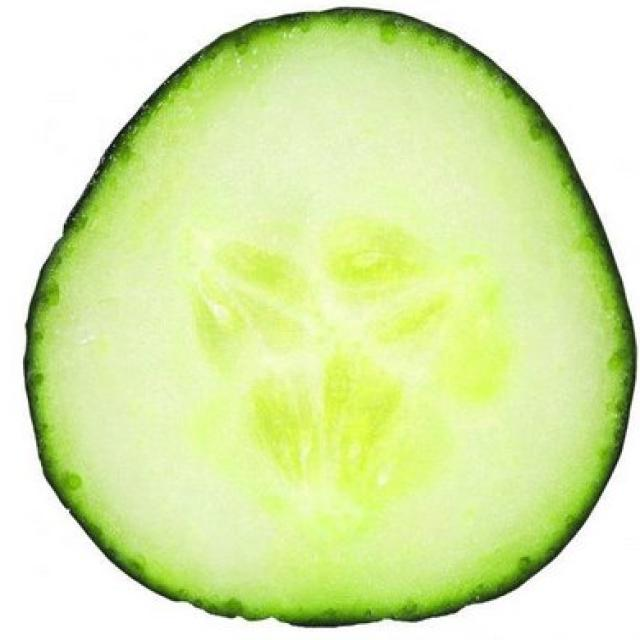cucumber: (11, 5, 638, 628)
